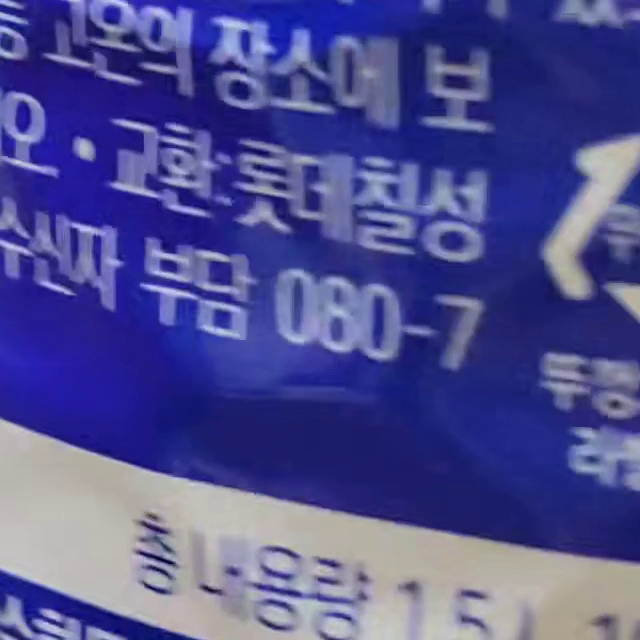ColorlessPet: (543, 134, 639, 327)
